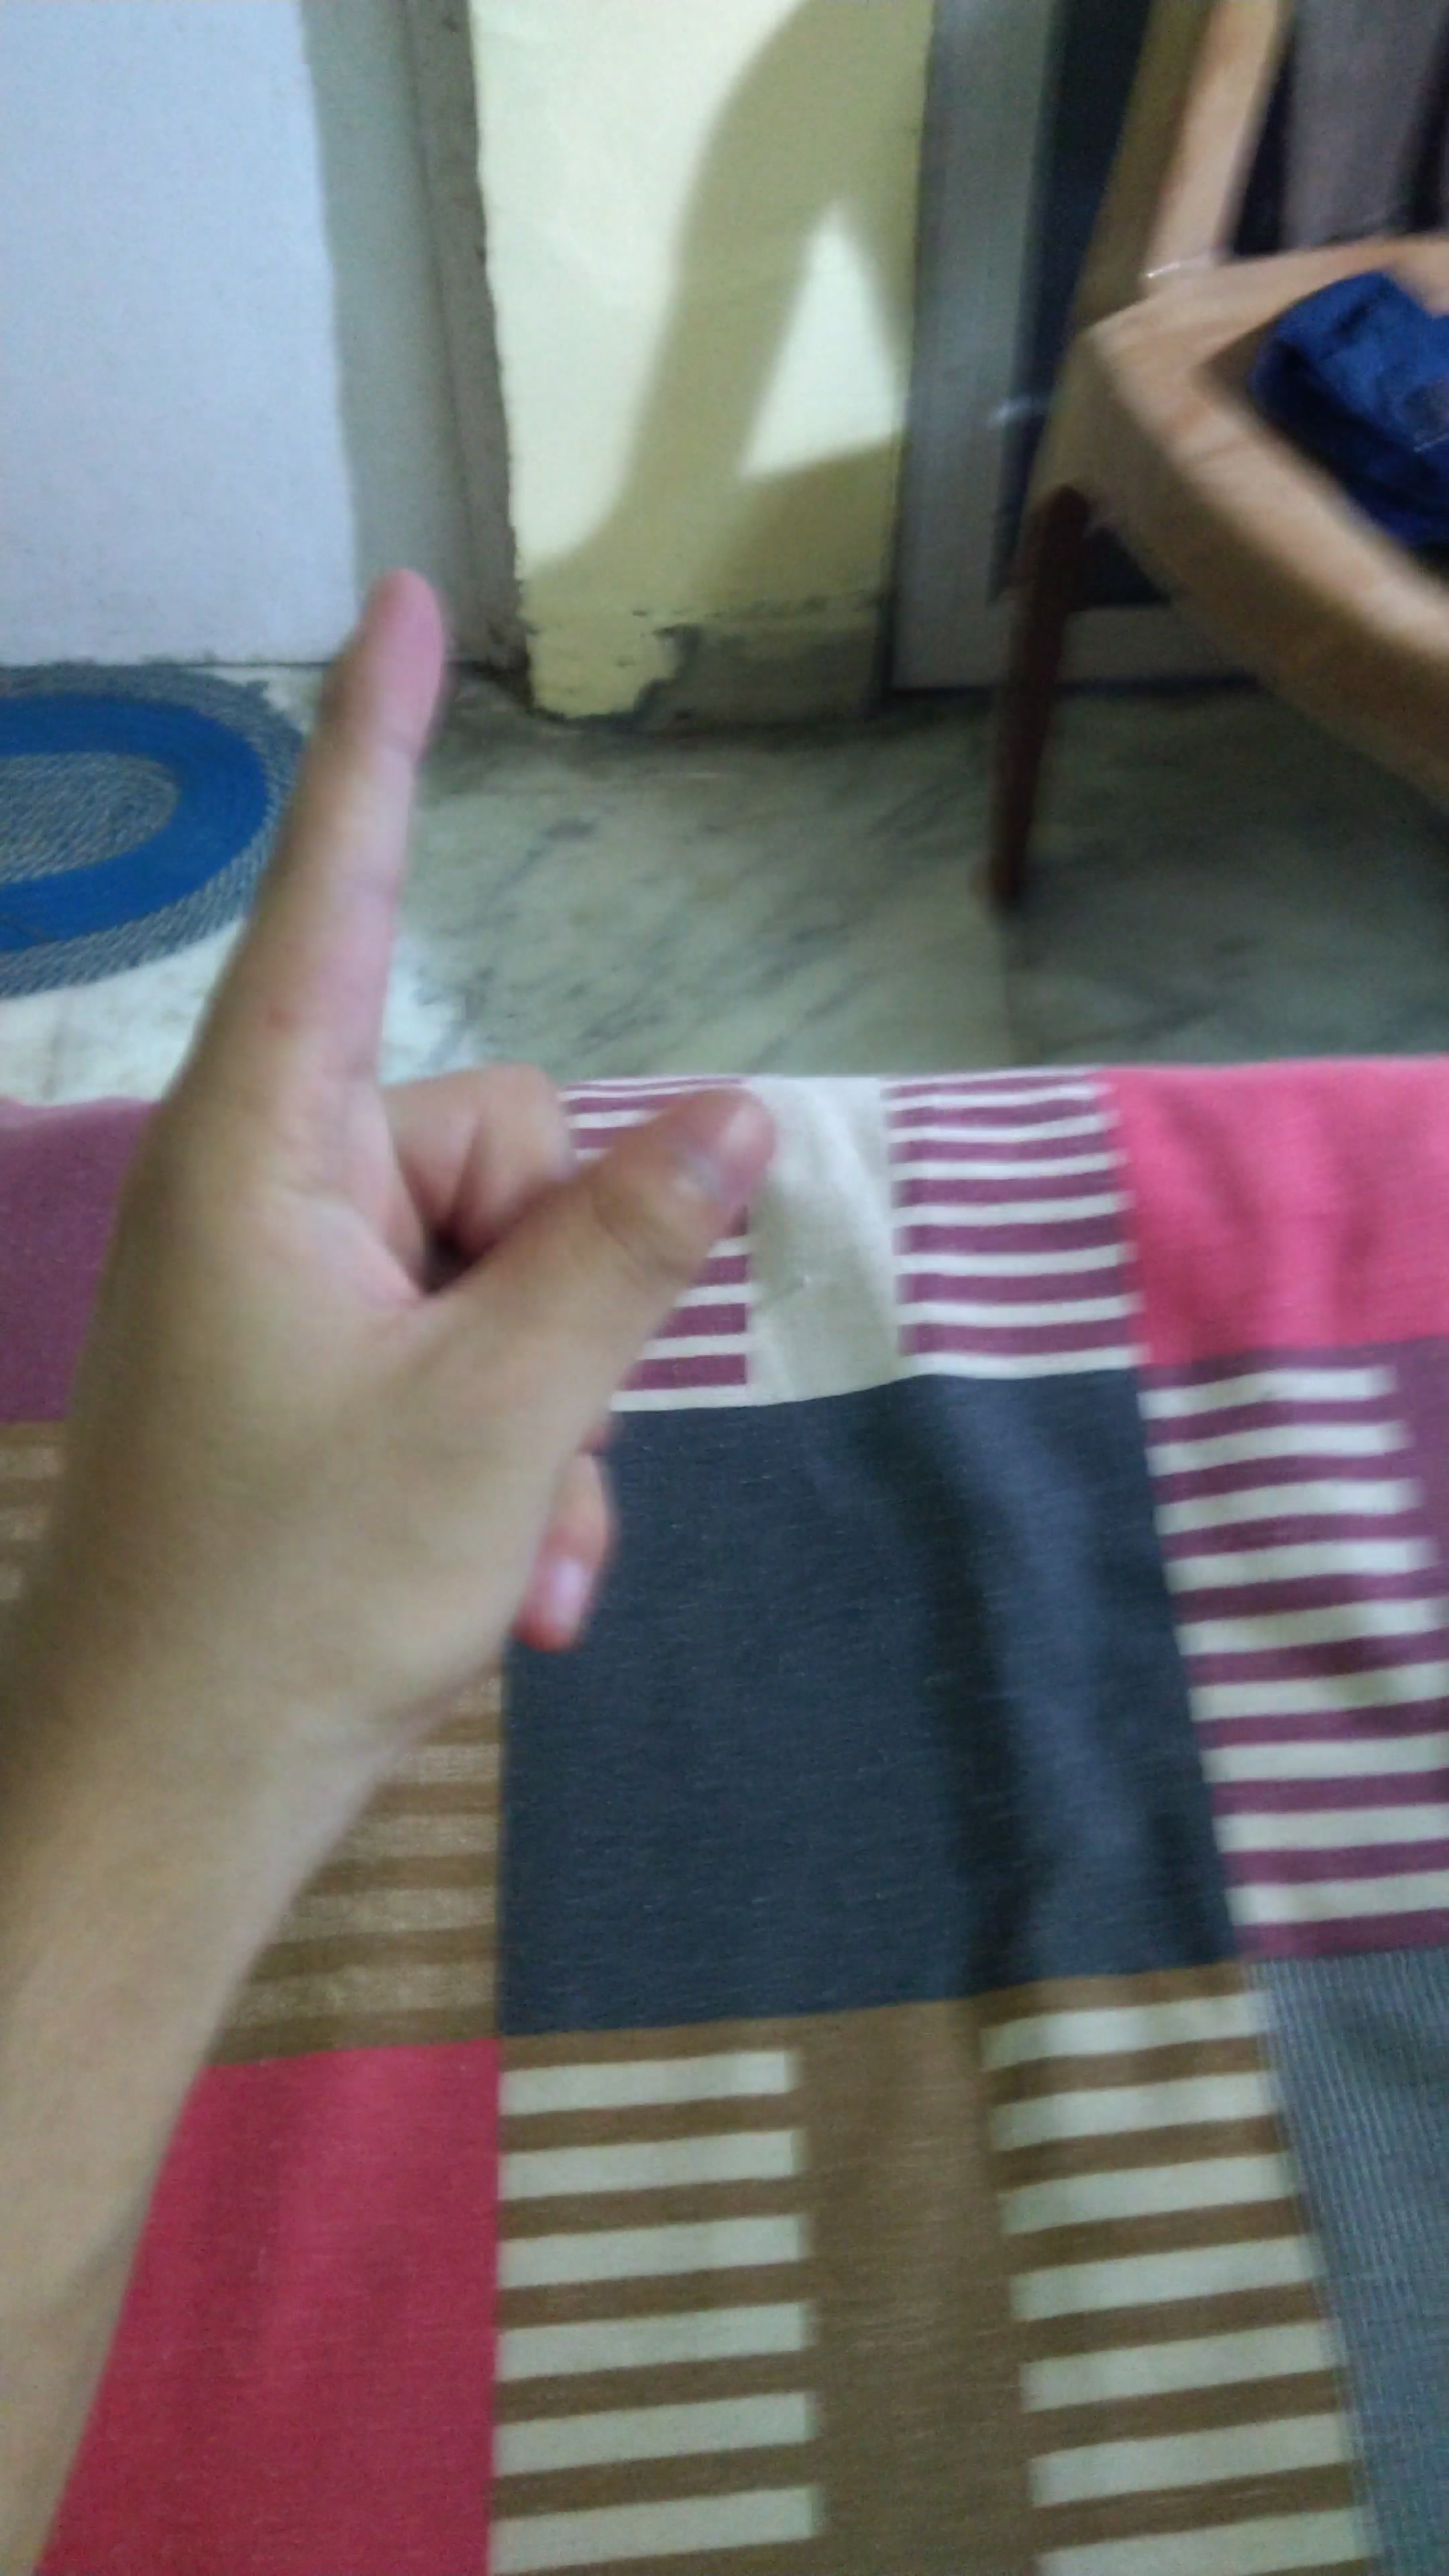hand: (50, 550, 768, 1721)
